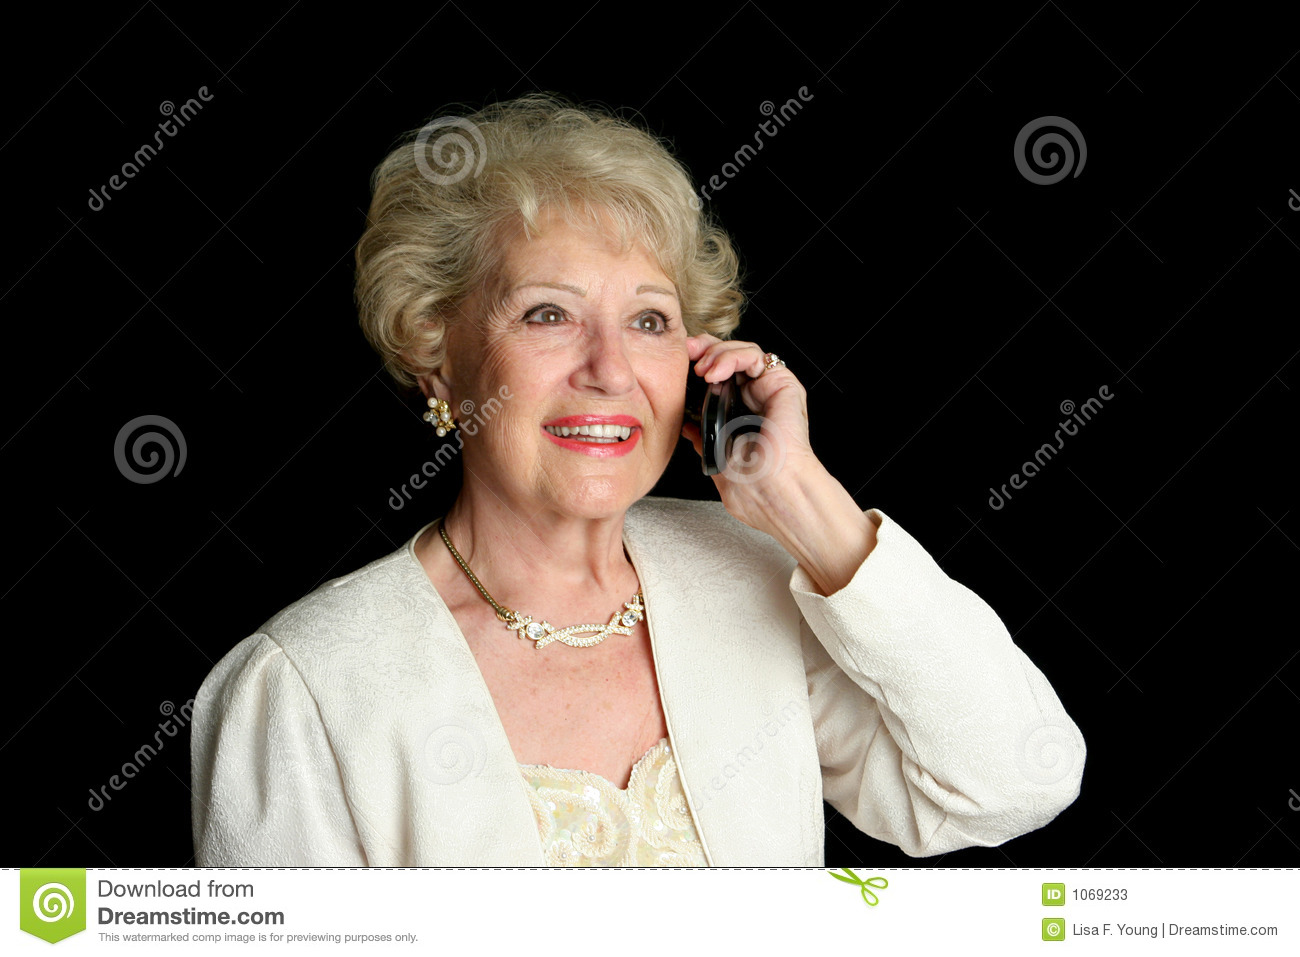talk: (477, 270, 819, 527)
